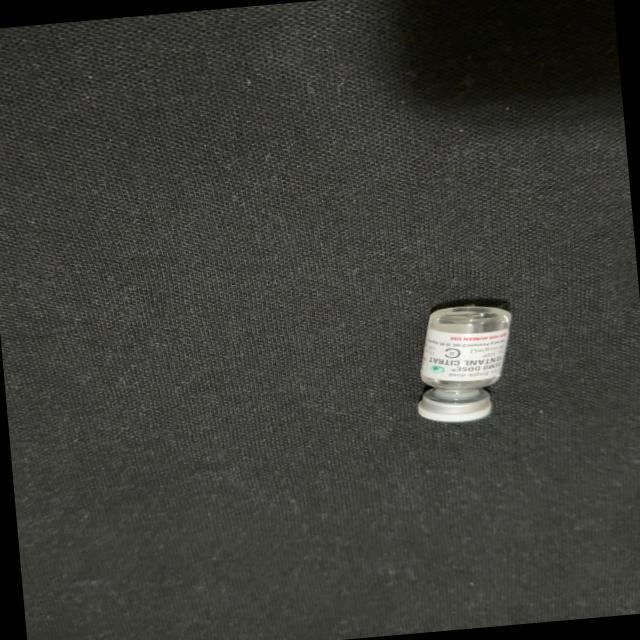fentanl_citrat: (409, 300, 519, 422)
